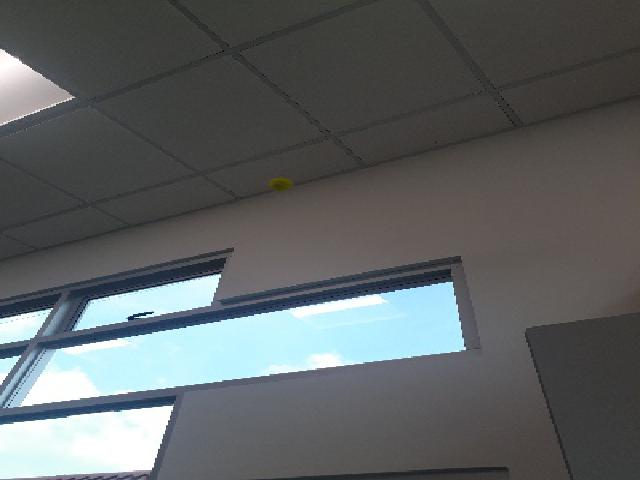Ball: (266, 176, 291, 192)
